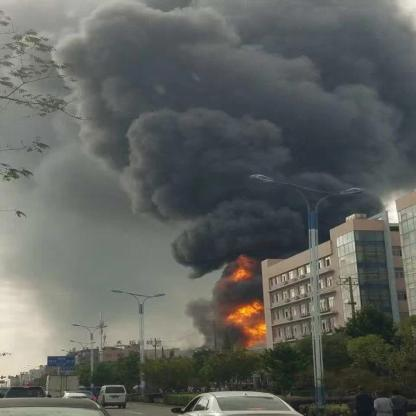fire: (224, 300, 272, 350), (223, 251, 249, 281)
smoke: (51, 11, 403, 254)
